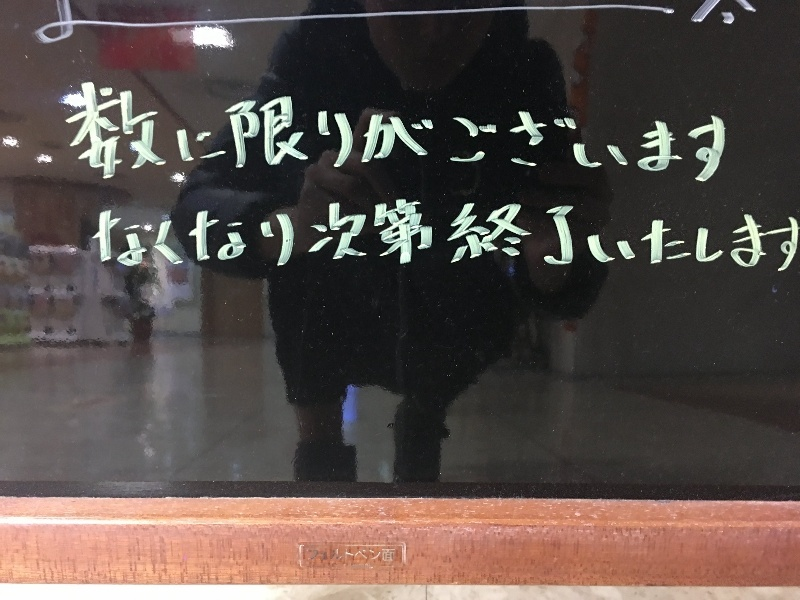text: (65, 82, 80, 184), (81, 82, 96, 184), (97, 82, 112, 184), (113, 82, 128, 184), (129, 82, 144, 184), (145, 82, 160, 184), (161, 82, 176, 184), (177, 82, 192, 184), (193, 82, 208, 184), (209, 82, 224, 184), (225, 82, 240, 184), (241, 82, 256, 184), (257, 82, 272, 184), (273, 82, 288, 184), (289, 82, 304, 184), (305, 82, 320, 184), (321, 82, 336, 184), (337, 82, 352, 184), (353, 82, 368, 184), (369, 82, 384, 184), (385, 82, 400, 184), (401, 82, 416, 184), (417, 82, 432, 184), (433, 82, 448, 184), (449, 82, 464, 184), (465, 82, 480, 184), (481, 82, 496, 184), (497, 82, 512, 184), (513, 82, 528, 184), (529, 82, 544, 184), (545, 82, 560, 184), (561, 82, 576, 184), (577, 82, 592, 184), (593, 82, 608, 184), (609, 82, 624, 184), (625, 82, 640, 184), (641, 82, 656, 184), (657, 82, 672, 184), (673, 82, 688, 184), (689, 82, 704, 184), (705, 82, 720, 184), (97, 195, 112, 272), (113, 195, 128, 272), (129, 195, 144, 272), (145, 195, 160, 272), (161, 195, 176, 272), (177, 195, 192, 272), (193, 195, 208, 272), (209, 195, 224, 272), (225, 195, 240, 272), (241, 195, 256, 272), (257, 195, 272, 272), (273, 195, 288, 272), (289, 195, 304, 272), (305, 195, 320, 272), (321, 195, 336, 272), (337, 195, 352, 272), (353, 195, 368, 272), (369, 195, 384, 272), (385, 195, 400, 272), (401, 195, 416, 272), (417, 195, 432, 272), (433, 195, 448, 272), (449, 195, 464, 272), (465, 195, 480, 272), (481, 195, 496, 272), (497, 195, 512, 272), (513, 195, 528, 272), (529, 195, 544, 272), (545, 195, 560, 272), (561, 195, 576, 272), (577, 195, 592, 272), (593, 195, 608, 272), (609, 195, 624, 272), (625, 195, 640, 272), (641, 195, 656, 272), (657, 195, 672, 272), (673, 195, 688, 272), (689, 195, 704, 272), (705, 195, 720, 272), (721, 195, 736, 272), (737, 195, 752, 272), (753, 195, 768, 272), (769, 195, 784, 272), (785, 195, 800, 272), (56, 82, 64, 184), (87, 195, 96, 272), (721, 82, 727, 184)
